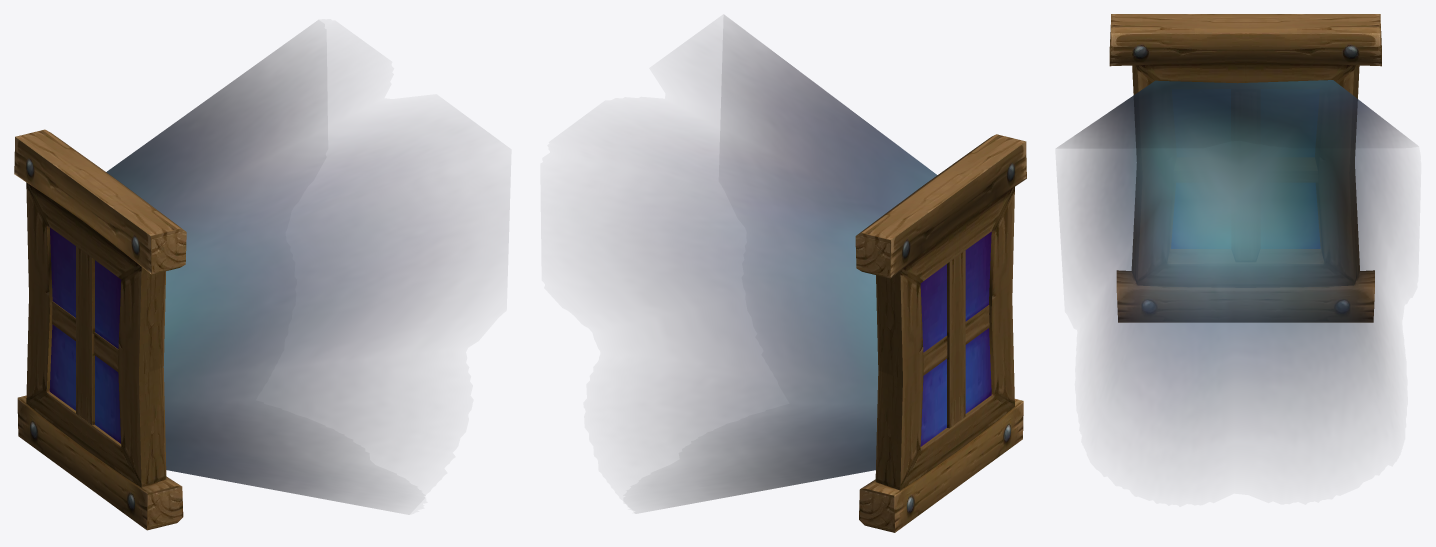
The picture shows the model from 3 angles, left to right: view 1: azimuth 30°, elevation 25°; view 2: azimuth 150°, elevation 25°; view 3: azimuth 270°, elevation 25°; orthographic projection.
Bounding box in the file's own units: 2.79 × 3.11 × 2.68.
7 materials, 7 textured.
